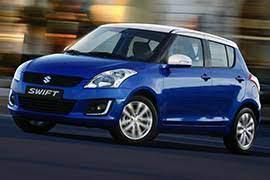Hatchback: (5, 21, 267, 146)
